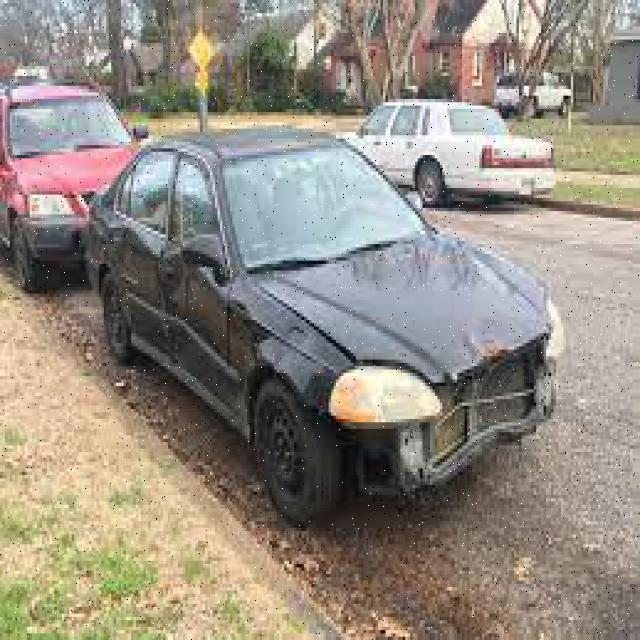doorouter-dent: (106, 214, 168, 350), (168, 254, 232, 383)
front-bumper-dent: (356, 370, 596, 484)
